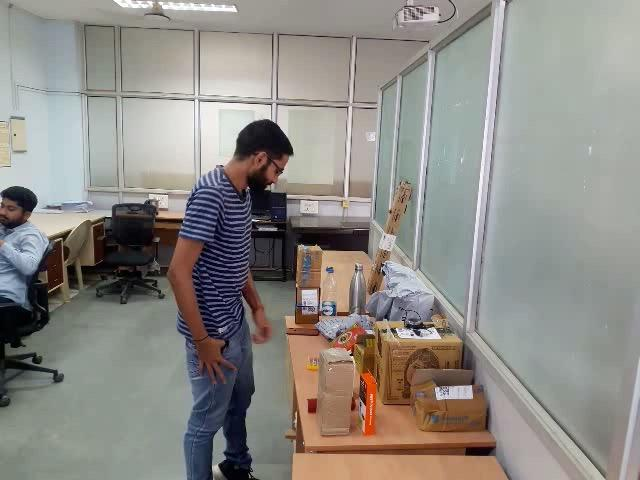shoplifting: (149, 328, 264, 396)
